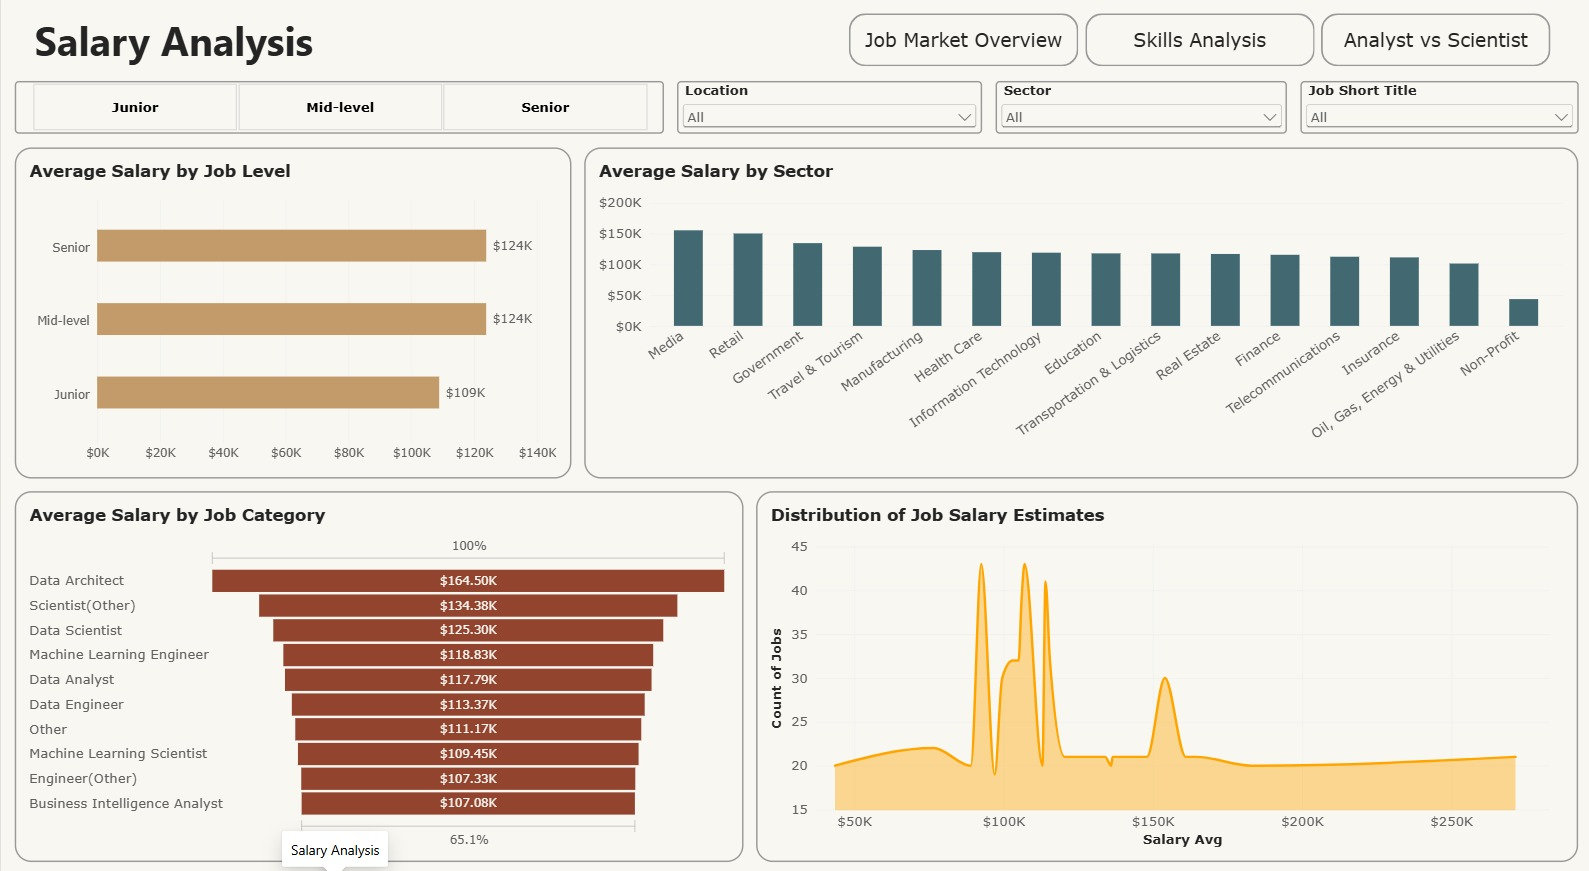

This screenshot's page, from the dashboard's own definition file:
{"tool":"powerbi","page":{"name":"Salary Analysis","canvas":[1920,1080],"ordinal":1},"visuals":[{"type":"clusteredBarChart","title":"Average Salary by Job Level","fields":{"Category":["job_postings.Job Level"],"Y":["Avg(job_postings.Salary Avg)"]},"box":[16,194,672,400],"z":0},{"type":"clusteredColumnChart","title":"Average Salary by Sector","fields":{"Category":["job_postings.Sector"],"Y":["Avg(job_postings.Salary Avg)"]},"box":[704,194,1200,400],"z":1000},{"type":"funnel","title":"Average Salary by Job Category","fields":{"Category":["job_postings.Job Short Title"],"Y":["Avg(job_postings.Salary Avg)"]},"box":[16,608,880,448],"z":2000},{"type":"stackedAreaChart","title":"Distribution of Job Salary Estimates","fields":{"Category":["job_postings.Salary Avg"],"Y":["CountNonNull(job_postings.Job ID)"]},"box":[912,608,992,448],"z":3000},{"type":"slicer","fields":{"Values":["job_postings.Location"]},"box":[816,113,368,64],"z":4000},{"type":"slicer","fields":{"Values":["job_postings.Sector"]},"box":[1200,113,352,64],"z":5000},{"type":"slicer","fields":{"Values":["job_postings.Job Short Title"]},"box":[1568,113,336,64],"z":6000},{"type":"slicer","fields":{"Values":["job_postings.Job Level"]},"box":[16,113,784,64],"z":7000},{"type":"textbox","box":[16,32,384,80],"z":8000},{"type":"pageNavigator","box":[1024,32,848,64],"z":9000}]}

Visuals, with their boxes in screenshot pixels (x1, y1, x2, y2), scaled from the page's 1920x1080 canvas onto the 1589x871 screenshot:
"Average Salary by Job Level" clusteredBarChart: bbox(13, 156, 569, 479)
"Average Salary by Sector" clusteredColumnChart: bbox(583, 156, 1576, 479)
"Average Salary by Job Category" funnel: bbox(13, 490, 742, 852)
"Distribution of Job Salary Estimates" stackedAreaChart: bbox(755, 490, 1576, 852)
slicer - job_postings.Location: bbox(675, 91, 980, 143)
slicer - job_postings.Sector: bbox(993, 91, 1284, 143)
slicer - job_postings.Job Short Title: bbox(1298, 91, 1576, 143)
slicer - job_postings.Job Level: bbox(13, 91, 662, 143)
textbox: bbox(13, 26, 331, 90)
pageNavigator: bbox(847, 26, 1549, 77)
